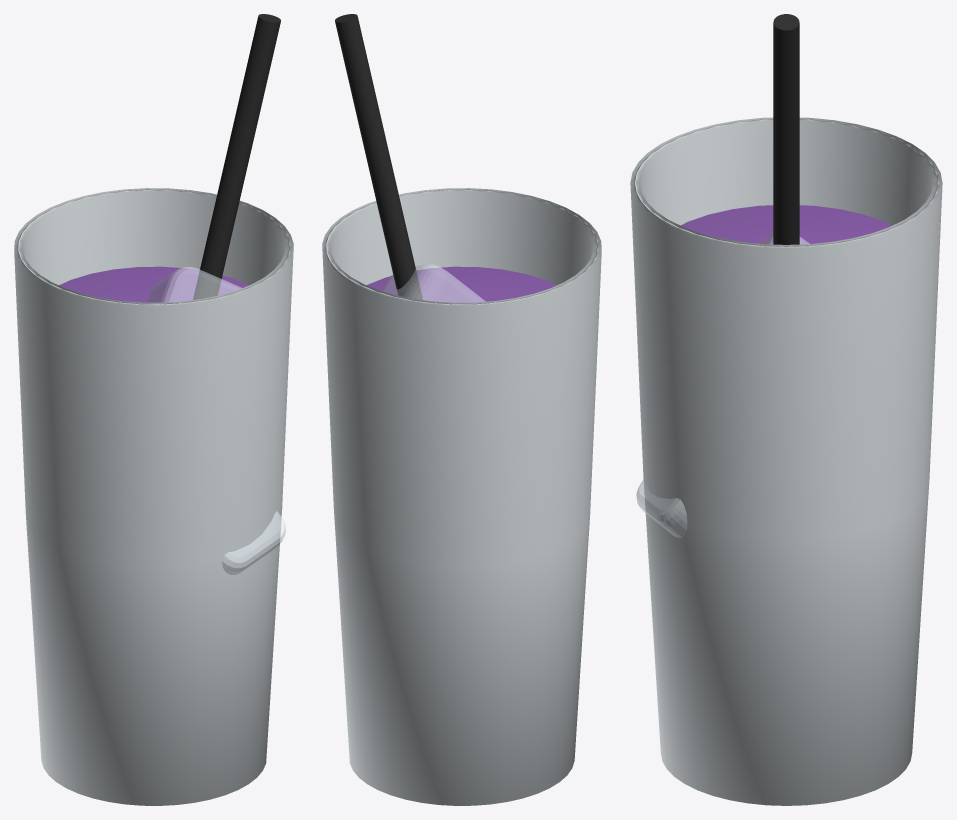
The model's file is alba-matcha-ube-latte.glb.
The picture shows the model from 3 angles, left to right: view 1: azimuth 30°, elevation 25°; view 2: azimuth 150°, elevation 25°; view 3: azimuth 270°, elevation 25°; orthographic projection. The views are drawn at different scales.
Bounding box in the file's own units: 0.0733 × 0.2027 × 0.072.
